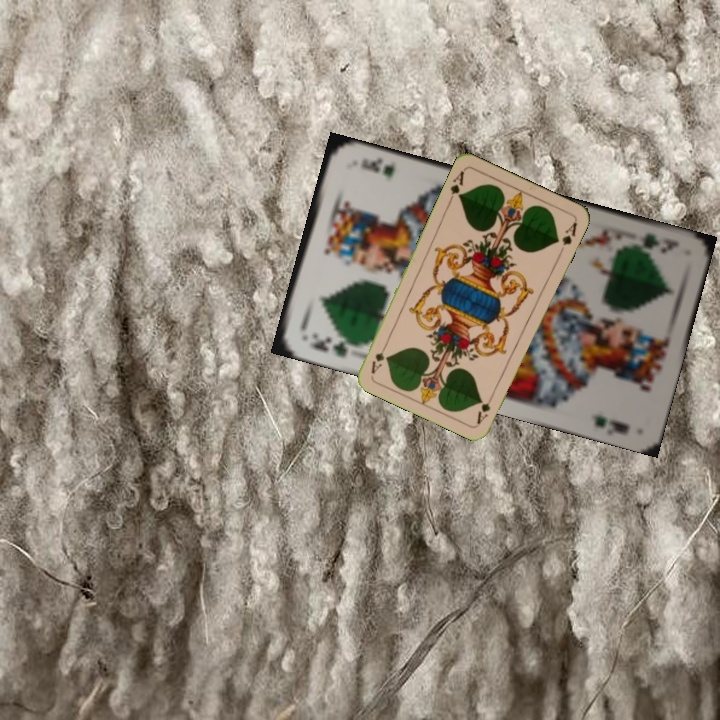GA: (473, 389, 497, 426), (445, 167, 467, 205)
GK: (306, 328, 360, 361), (626, 229, 682, 257)
